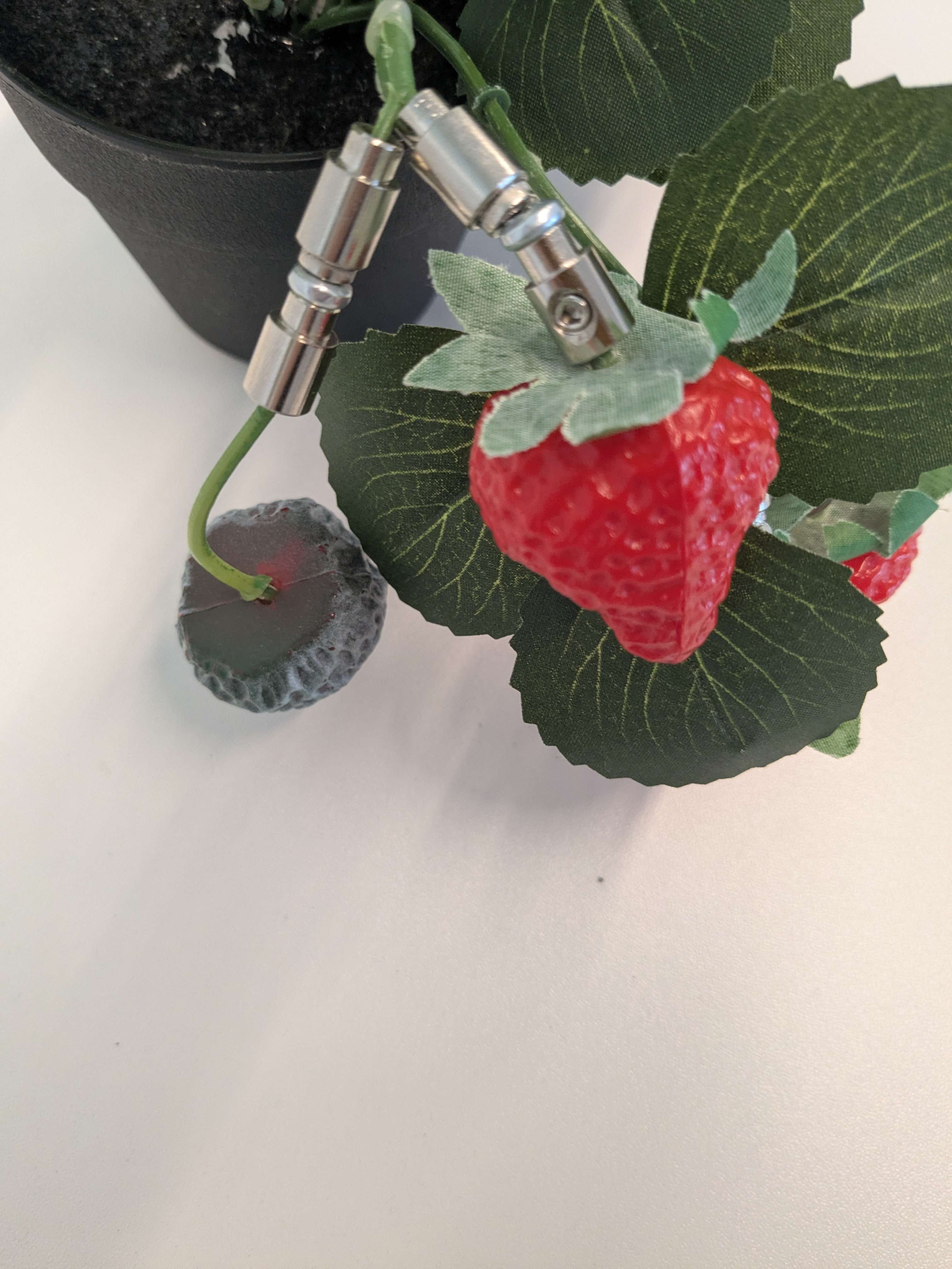Strawberry: (463, 283, 798, 703), (823, 502, 927, 623)
